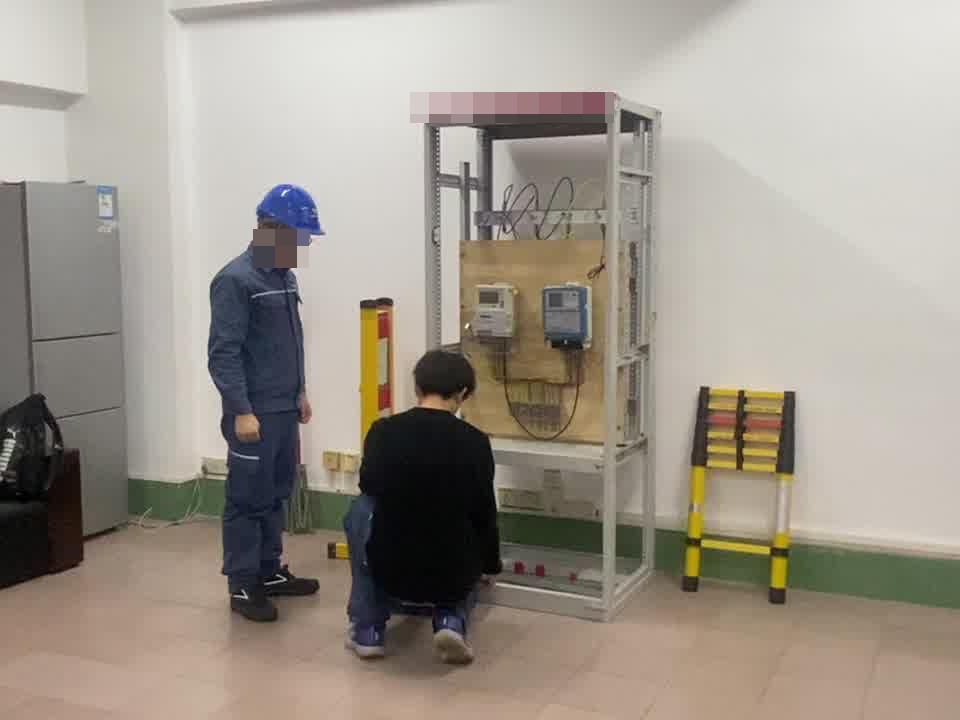downsuit: (219, 421, 297, 587), (343, 490, 389, 629)
halt: (253, 182, 323, 262)
hand: (233, 413, 263, 445), (295, 389, 312, 425)
inear: (254, 216, 282, 246)
noear: (455, 381, 470, 406)
person: (346, 349, 512, 667), (208, 181, 324, 621)
unhalt: (412, 351, 477, 411)
upcloth: (362, 413, 503, 603)
upsuit: (210, 253, 308, 409)
